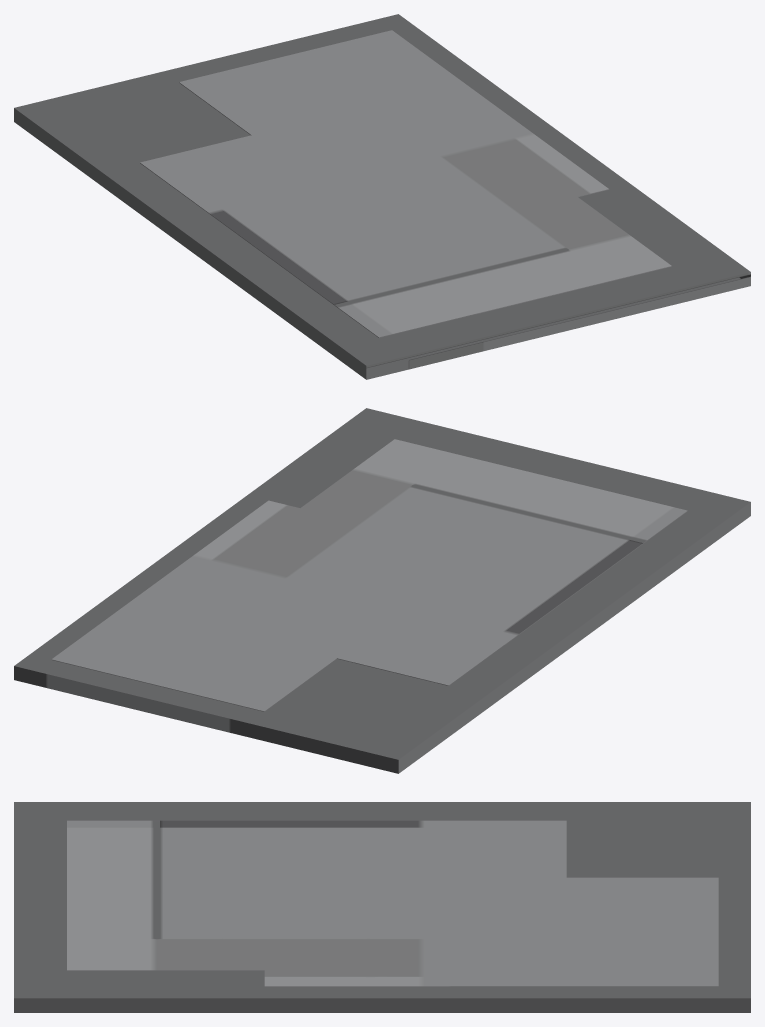
The picture shows the model from 3 angles, top to bottom: view 1: azimuth 30°, elevation 25°; view 2: azimuth 150°, elevation 25°; view 3: azimuth 270°, elevation 25°; orthographic projection. The views are drawn at different scales.
Size of the model in its own units: 0.63 by 0.023 by 1.
